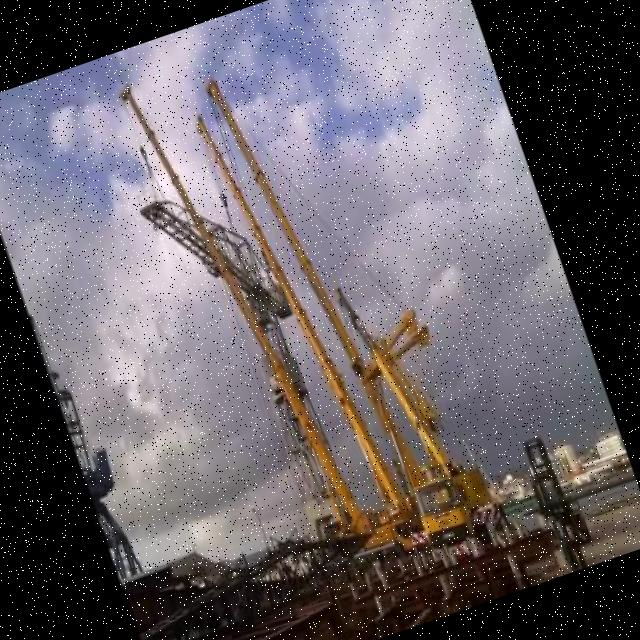Mobile Crane: (118, 48, 416, 606), (327, 260, 502, 567)
